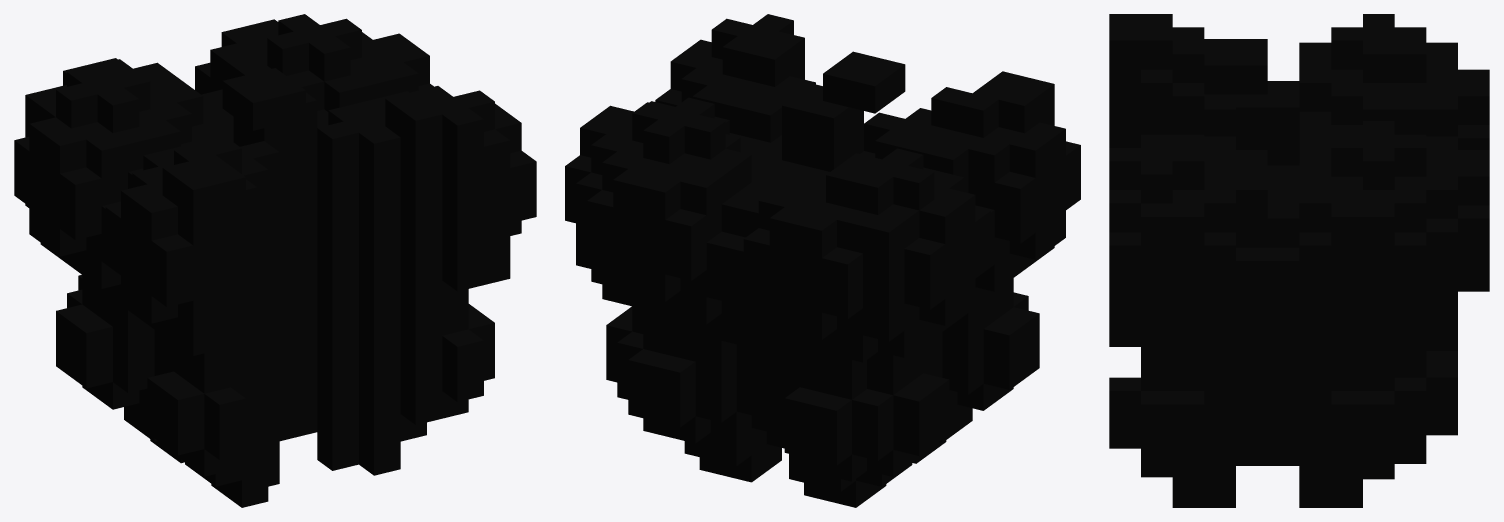
The model's file is Pepper.obj.
3 views of the same model, side by side, from view 1: azimuth 30°, elevation 25°; view 2: azimuth 150°, elevation 25°; view 3: azimuth 270°, elevation 25° (orthographic). The views are drawn at different scales.
Visible parts, largest first — view 1: Pepper; view 2: Pepper; view 3: Pepper.
Boxes of the visible parts, left/top/right/bottom form: Pepper: left=14, top=14, right=536, bottom=507; Pepper: left=565, top=14, right=1080, bottom=507; Pepper: left=1109, top=14, right=1489, bottom=507.
Bounding box in the file's own units: 1.4 × 1.4 × 1.2.
